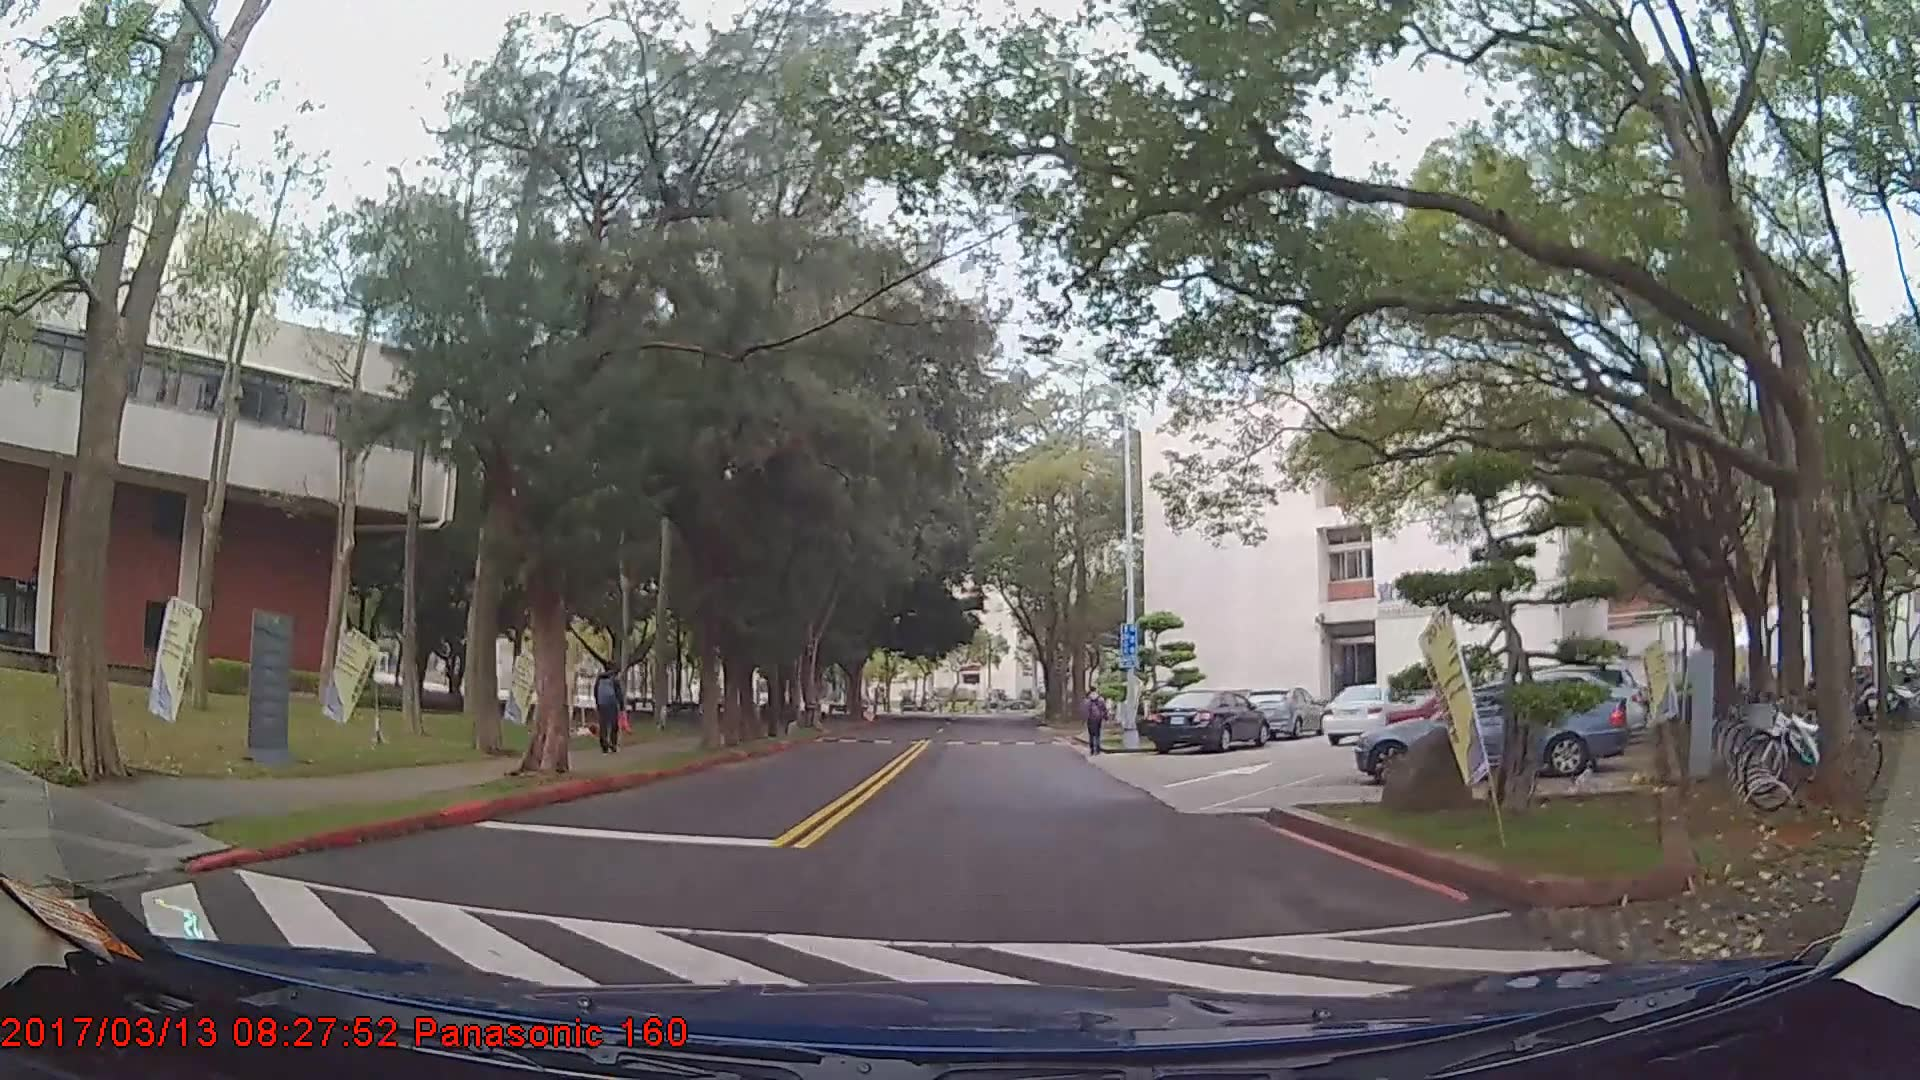pedestrian: (595, 665, 624, 756), (1084, 689, 1112, 761)
vehicle: (1354, 678, 1629, 788), (1145, 690, 1272, 756), (1324, 682, 1413, 746), (1247, 686, 1329, 740)
